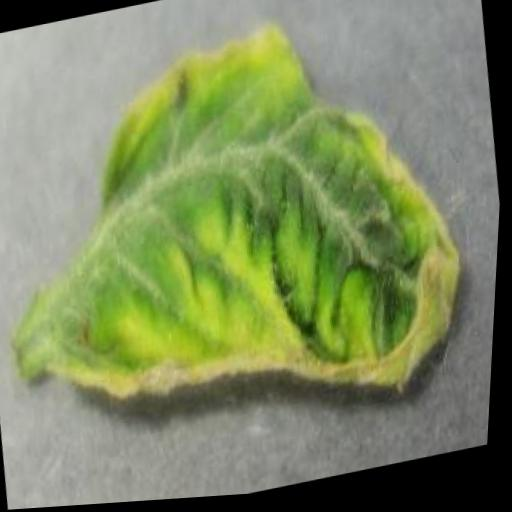Yellow Leaf Curl Virus: (0, 0, 491, 472)
